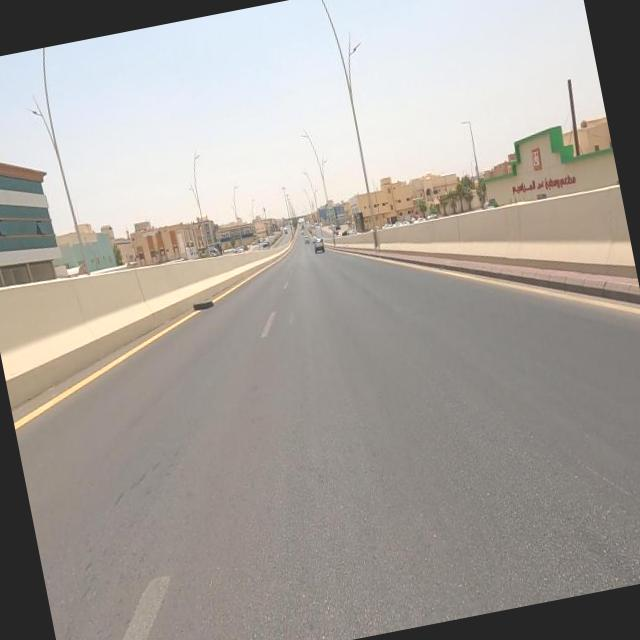debris: (165, 268, 242, 346)
